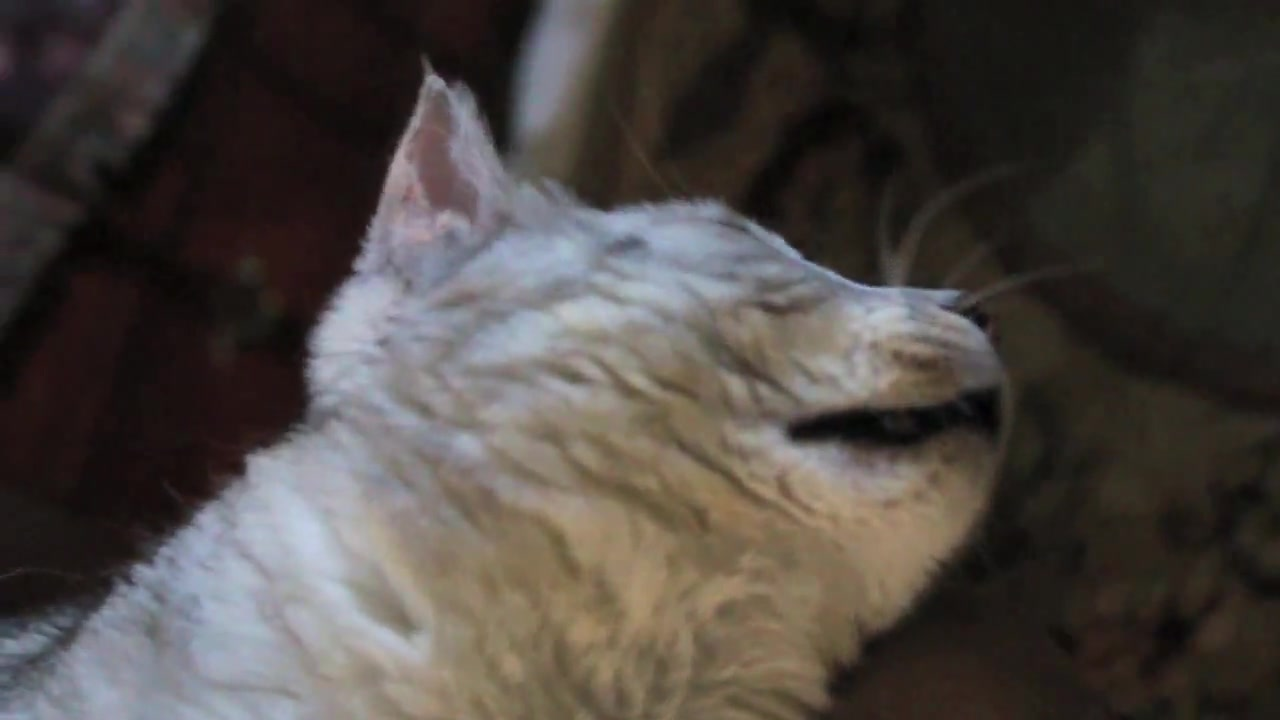cat: (5, 61, 1020, 720)
